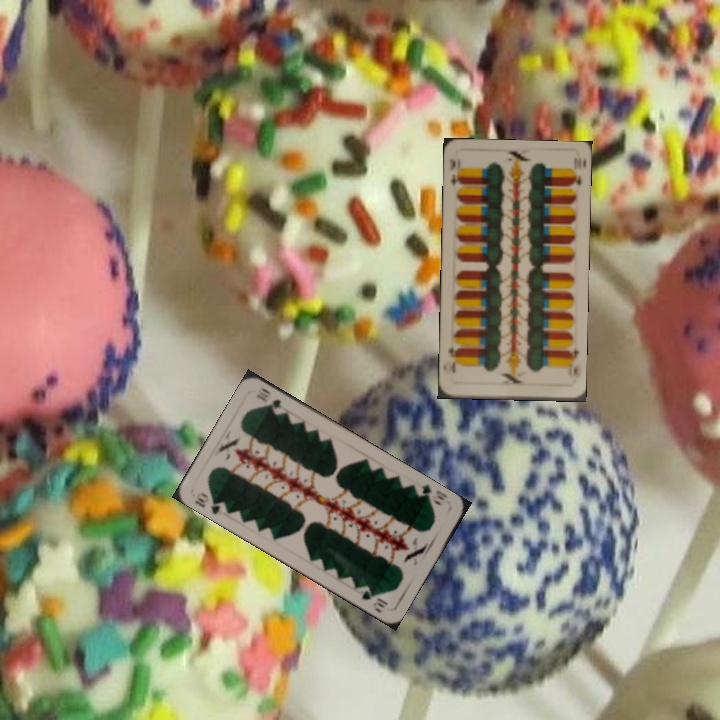E10: (562, 344, 582, 385), (446, 154, 466, 188)
G10: (191, 488, 229, 517), (412, 480, 450, 508)
